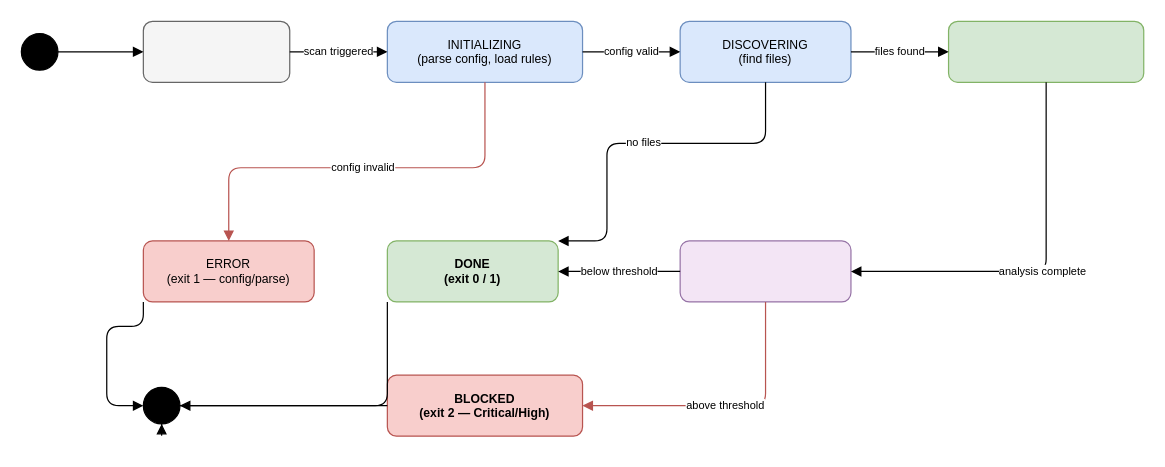
This 1165x467 diagram has some shape labels left out. Each missing label, with the centre of its shape:
ANALYZING (apply rules per file): the point at 1045,51
IDLE: the point at 216,51
REPORTING (format output): the point at 765,271
